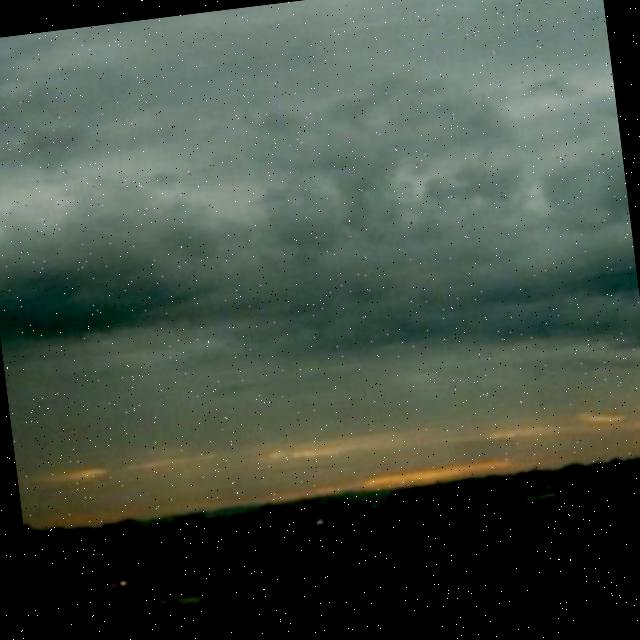Ns: (1, 28, 640, 472)
